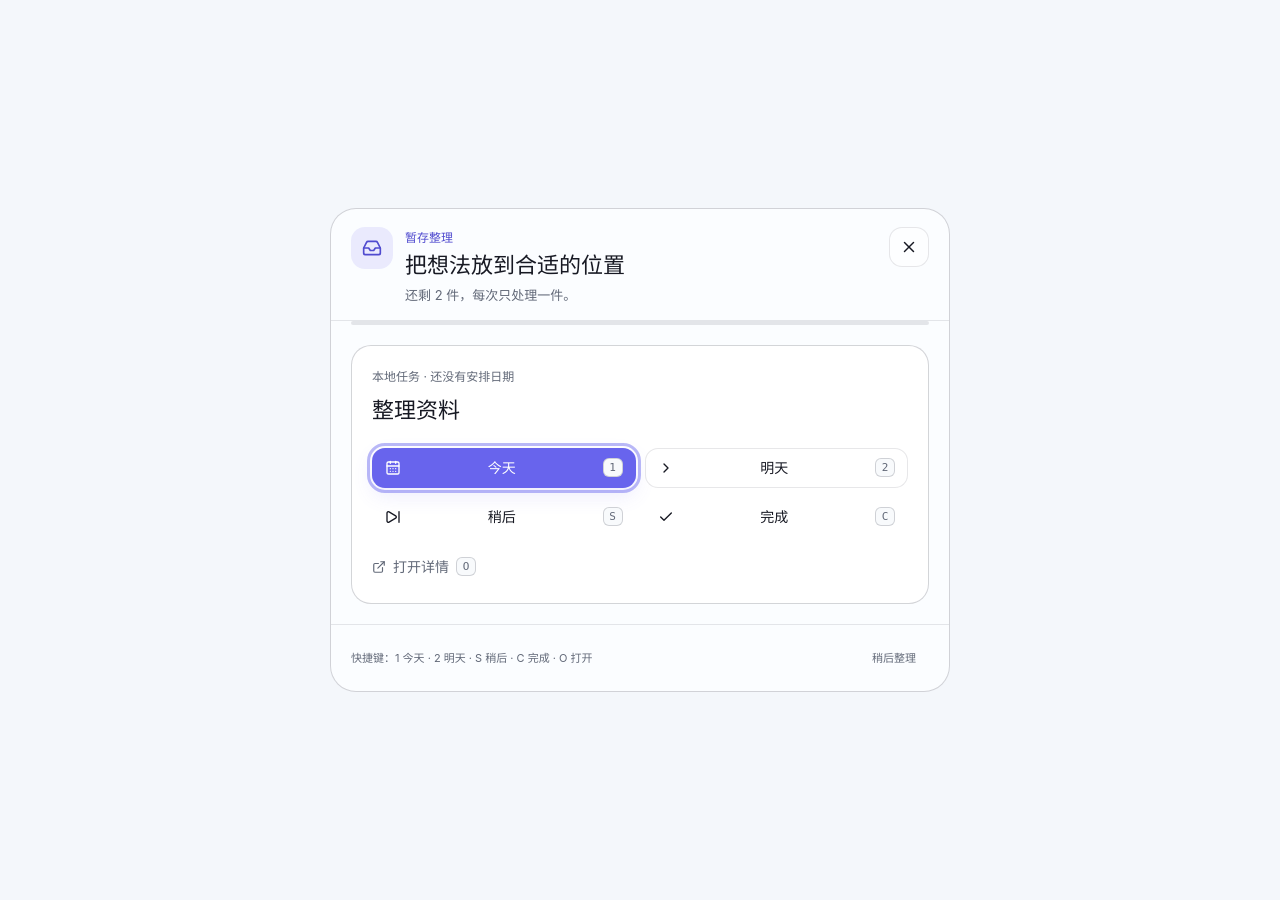
Test: InboxTriageSheet › moves one task at a time and keeps skip local
This screenshot has width=1280, height=900.
Expected: the heading "把想法放到合适的位置" is shown, [405,252,625,278]
Expected: the heading "整理资料" is shown, [372,397,460,423]
Click the button "稍后 S".
click(504, 517)  # box [372,497,636,537]
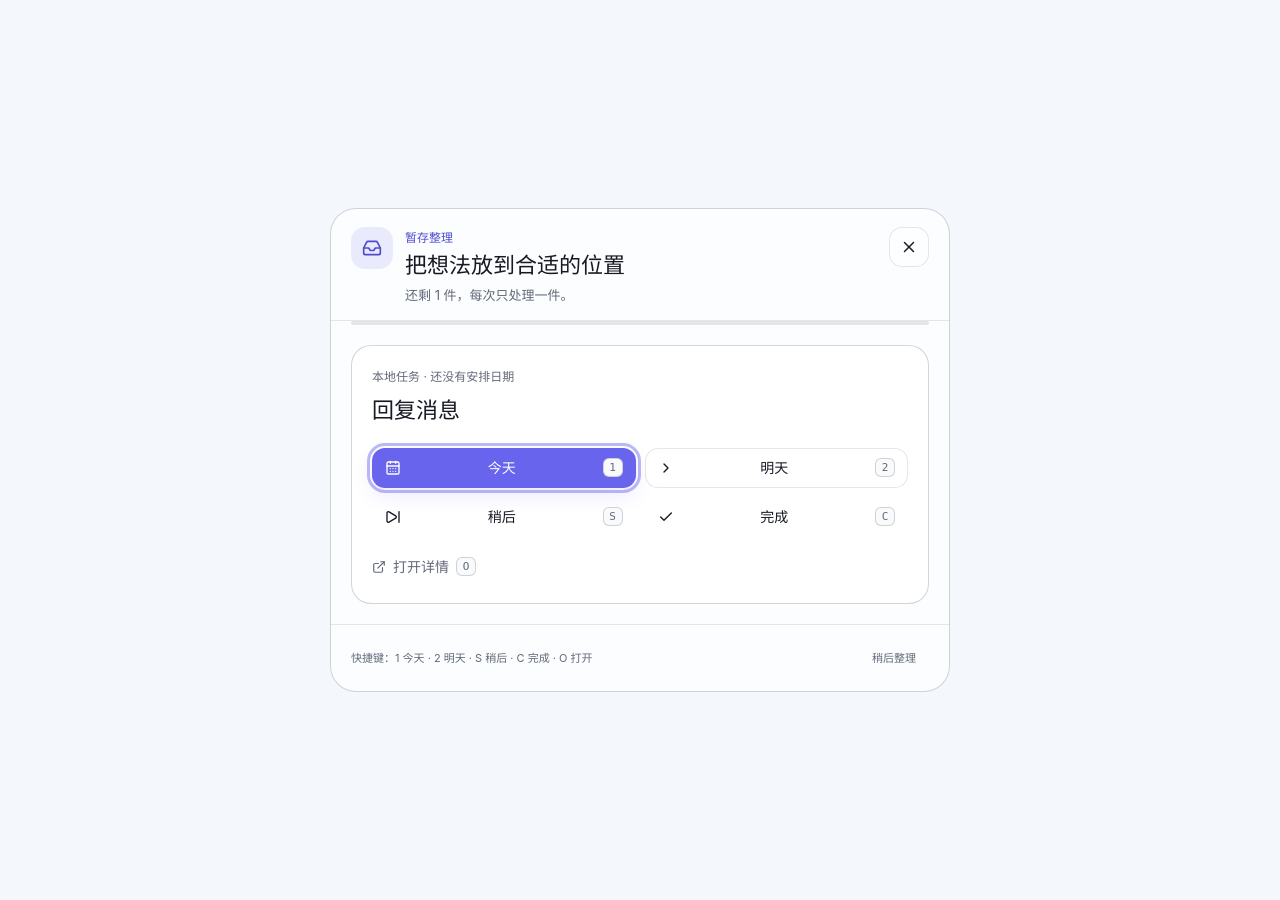
Result: the heading "回复消息" is shown at [372,397,460,423]
Click the button "今天 1".
click(504, 468)  # box [372,448,636,488]
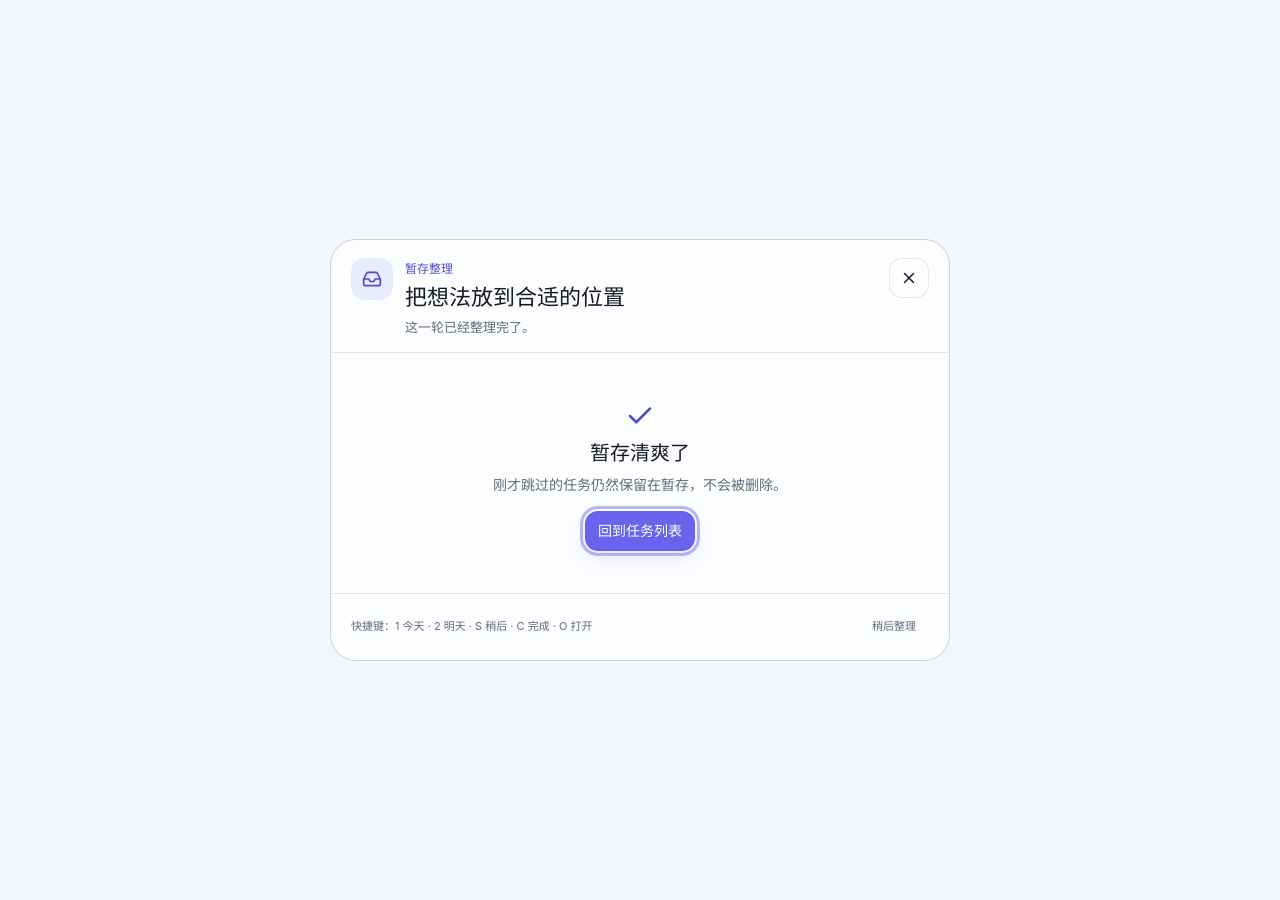
Result: the text "暂存清爽了" is shown at [590,439,690,467]
